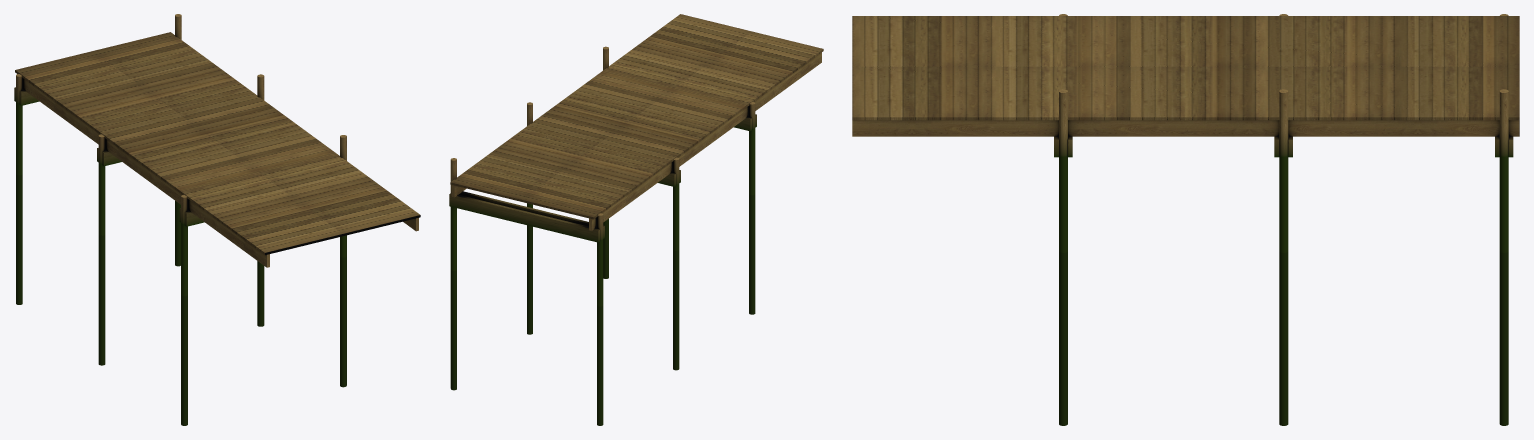
File: puerto2.fbx
3 renders of one model, left to right at view 1: azimuth 30°, elevation 25°; view 2: azimuth 150°, elevation 25°; view 3: azimuth 270°, elevation 25°, orthographic. The views are drawn at different scales.
Visible parts, largest first — view 1: Puerto.003, Puerto.002; view 2: Puerto.003, Puerto.002; view 3: Puerto.003, Puerto.002.
Part boxes in pixels (left/top/right/bottom): Puerto.003: left=15, top=32, right=420, bottom=267; Puerto.002: left=14, top=14, right=346, bottom=425; Puerto.003: left=450, top=14, right=823, bottom=230; Puerto.002: left=449, top=46, right=756, bottom=425; Puerto.003: left=852, top=16, right=1519, bottom=136; Puerto.002: left=1054, top=14, right=1513, bottom=425.
Size of the model in its own units: 1065 by 1540 by 2797.
Materials: 1 (1 with a texture image).
